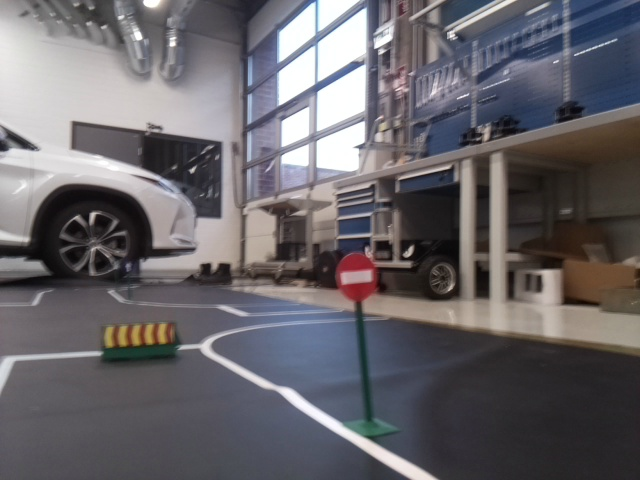NoEntry: (335, 253, 378, 298)
